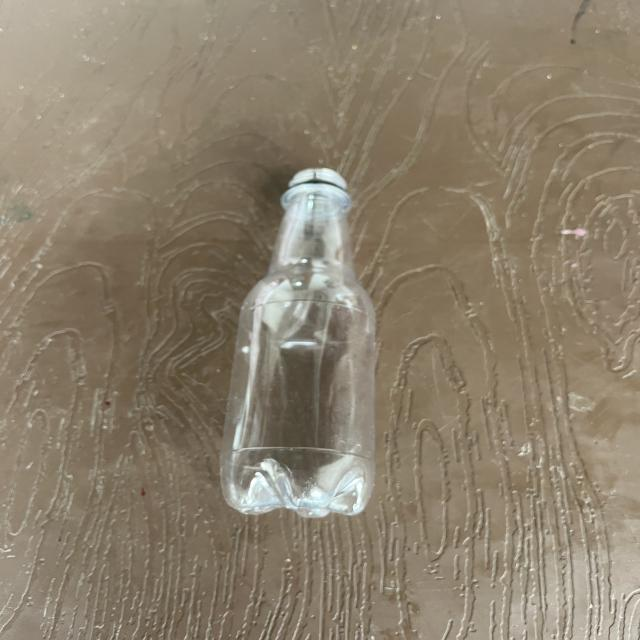PET_With_Cap: (222, 164, 387, 520)
